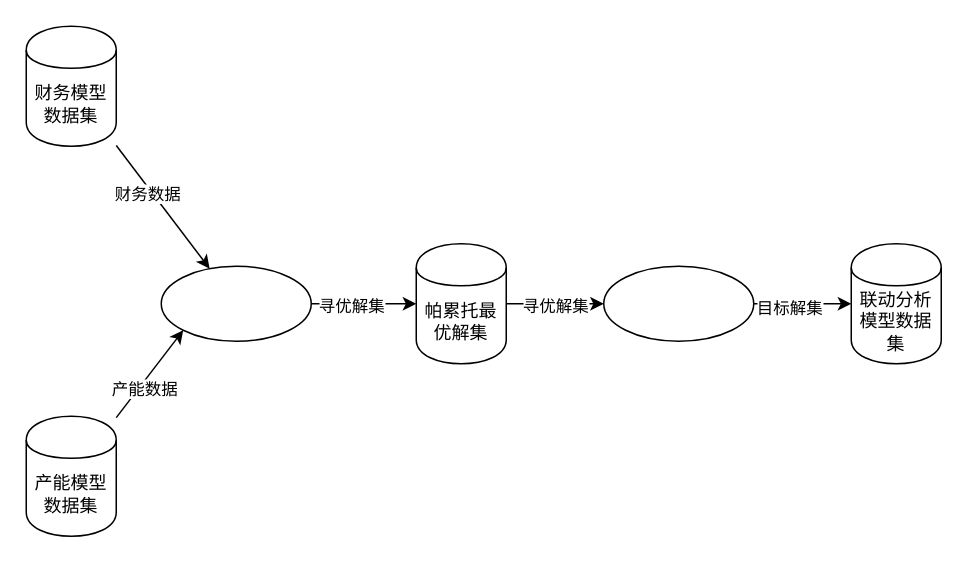
Image size: 968x563. Some labels were removed from this diagram. Here are the shapes that lost their labels. From the top down, the centre of each, then its label:
At (x=235, y=303): "利润-产能-成本定向寻优".
At (x=678, y=303): "选取目标解集并做二次反向寻优".
